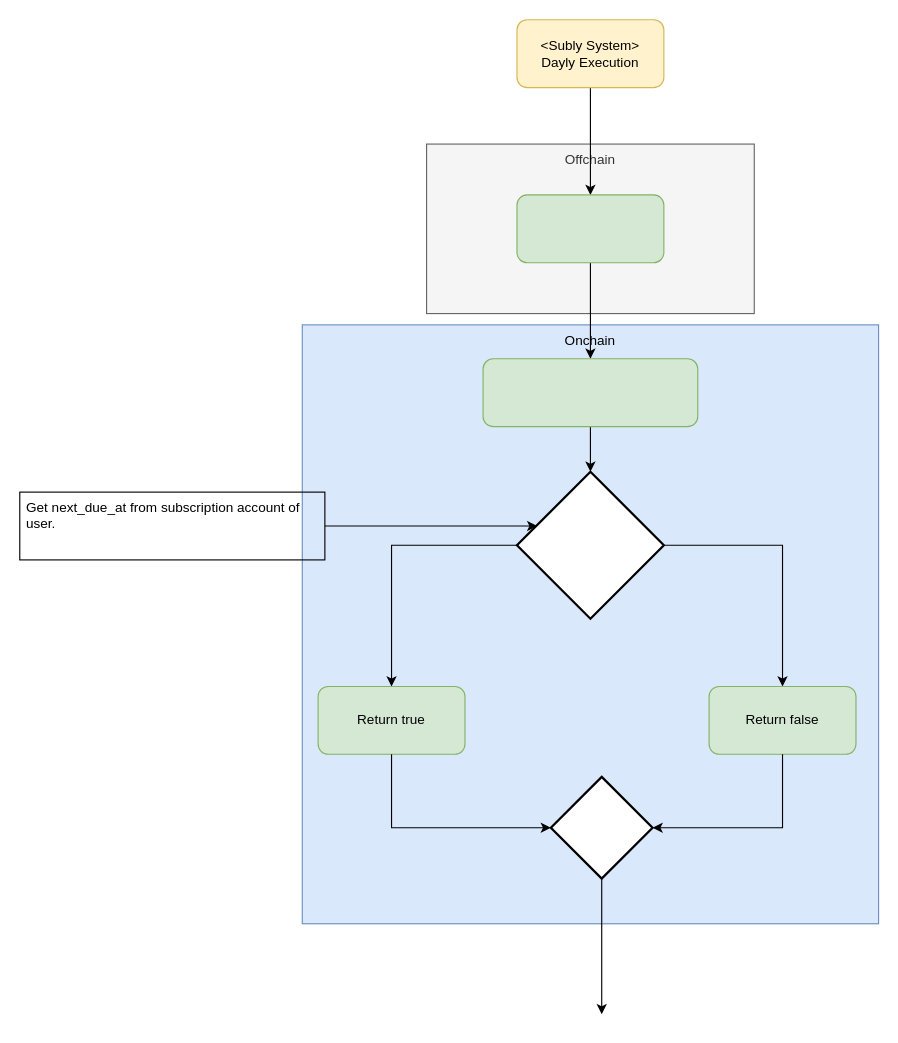
Image size: 898x1043. Some labels were removed from this diagram. The centre of each missing label's shape, as x and y in pixels:
"<Check payment date function>" belongs at [590,392].
"Check if today is the subscription fee payment date for each NFT holder address." belongs at [589,544].
"Get subscribed certification NFT holder addresses" belongs at [590,228].
